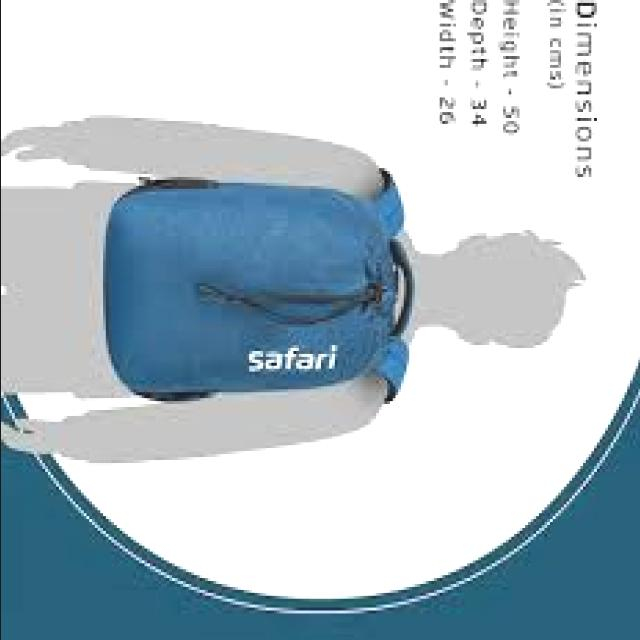backpack: (106, 166, 415, 405)
